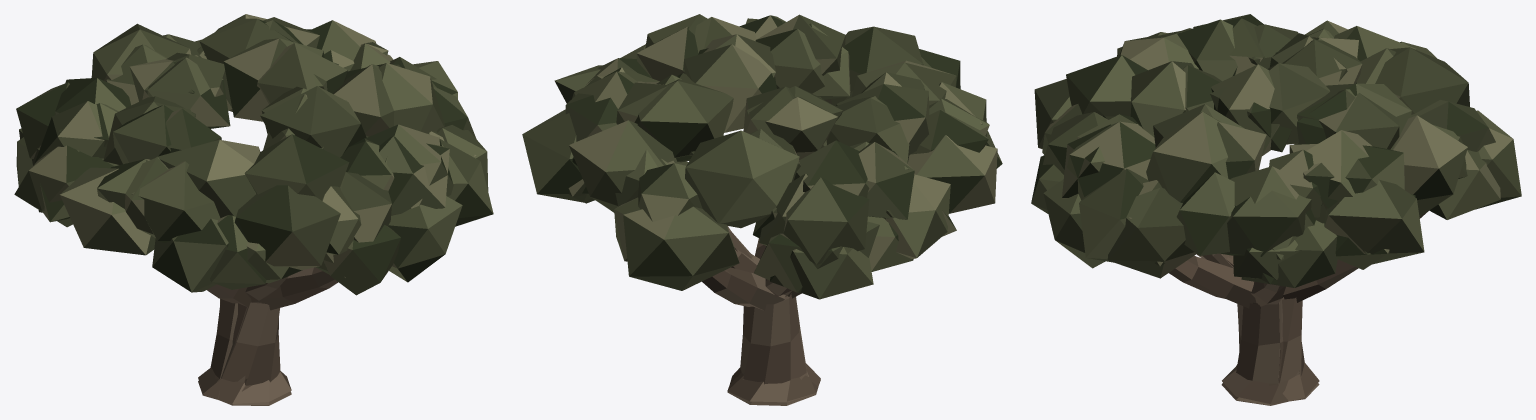
The model's file is oak-coast-live.glb.
The picture shows the model from 3 angles, left to right: view 1: azimuth 30°, elevation 25°; view 2: azimuth 150°, elevation 25°; view 3: azimuth 270°, elevation 25°; orthographic projection.
Visible parts, largest first — view 1: oak-coast-live_v0_LOD0, oak-coast-live_v2_LOD0, oak-coast-live_v1_LOD0; view 2: oak-coast-live_v2_LOD0, oak-coast-live_v1_LOD0, oak-coast-live_v0_LOD0; view 3: oak-coast-live_v1_LOD0, oak-coast-live_v0_LOD0, oak-coast-live_v2_LOD0.
Boxes of the visible parts, x1,y1,x2,y2 form: oak-coast-live_v0_LOD0: (38, 20, 493, 405); oak-coast-live_v2_LOD0: (14, 17, 476, 403); oak-coast-live_v1_LOD0: (19, 14, 488, 405); oak-coast-live_v2_LOD0: (522, 17, 1002, 405); oak-coast-live_v1_LOD0: (569, 15, 986, 402); oak-coast-live_v0_LOD0: (554, 14, 997, 401); oak-coast-live_v1_LOD0: (1031, 19, 1500, 405); oak-coast-live_v0_LOD0: (1034, 24, 1467, 405); oak-coast-live_v2_LOD0: (1043, 14, 1521, 404).
Size of what is drawn, in the model's own units: 13.48 by 10.83 by 14.02.
